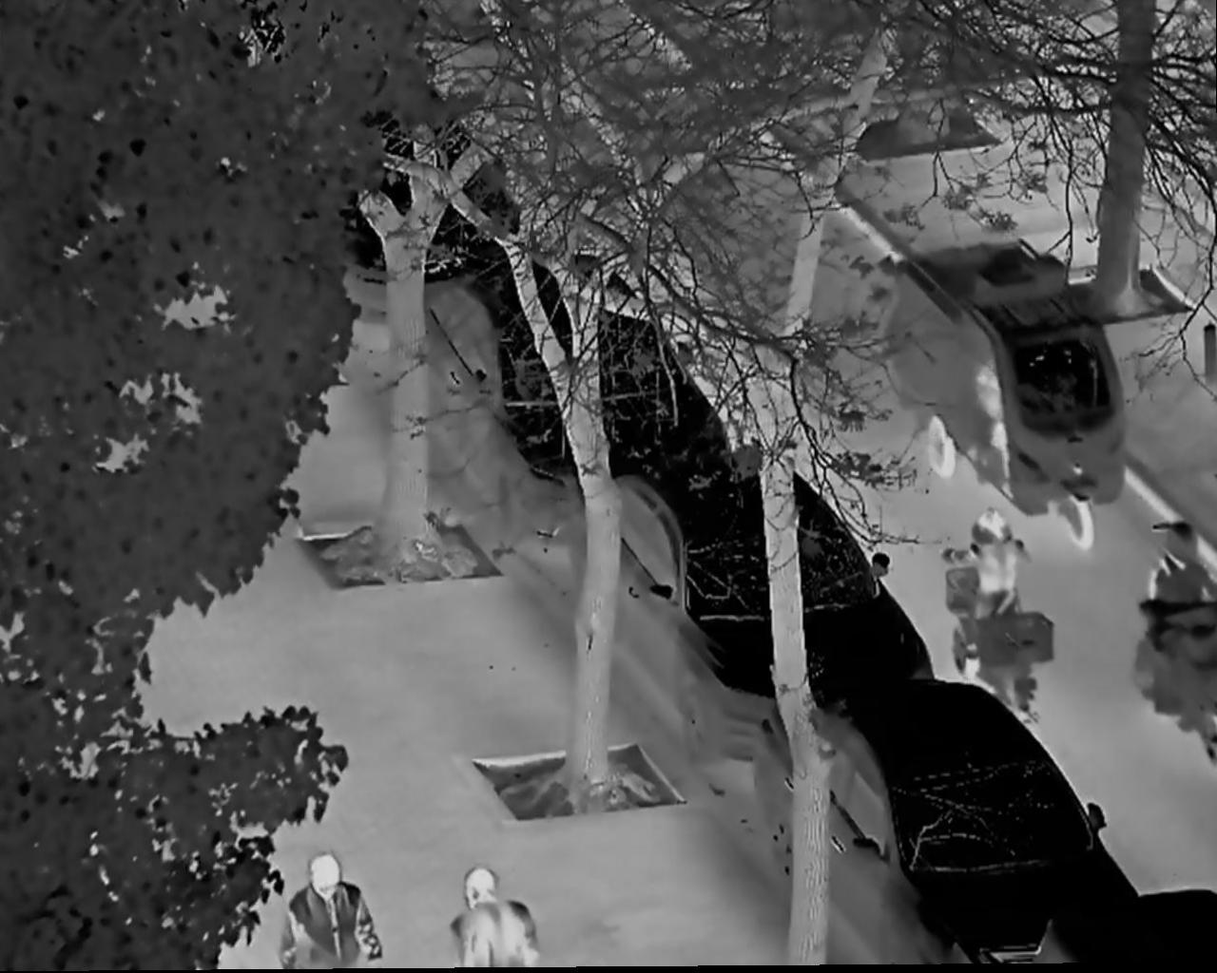person: (942, 506, 1036, 677), (275, 854, 386, 973), (1133, 519, 1212, 679), (442, 867, 541, 973)
